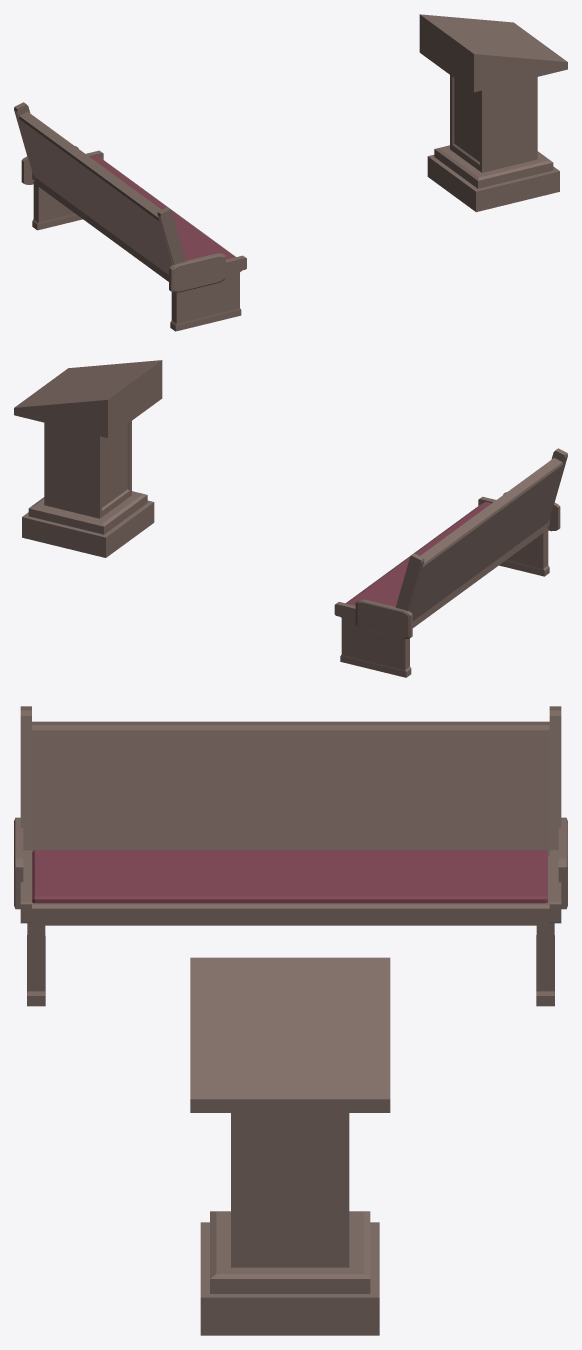
File: Church Assets.fbx
3 views of the same model, one above another, from view 1: azimuth 30°, elevation 25°; view 2: azimuth 150°, elevation 25°; view 3: azimuth 270°, elevation 25° (orthographic). The views are drawn at different scales.
Parts seen in each view (by area): view 1: pCube11, pCube10; view 2: pCube11, pCube10; view 3: pCube10, pCube11.
Part boxes in pixels (left/top/right/bottom): pCube11: left=419, top=14, right=567, bottom=212; pCube10: left=14, top=102, right=246, bottom=331; pCube11: left=14, top=360, right=162, bottom=557; pCube10: left=334, top=448, right=567, bottom=677; pCube10: left=14, top=706, right=567, bottom=1006; pCube11: left=190, top=957, right=390, bottom=1335.
Bounding box in the file's own units: 7.14 × 2.43 × 4.1.
